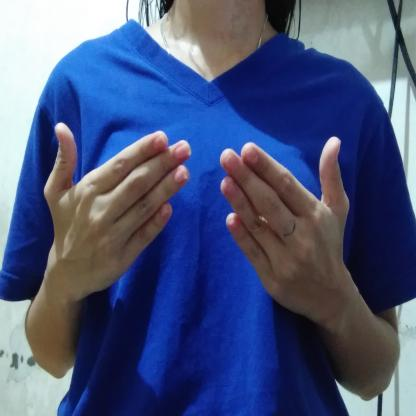night: (40, 116, 354, 333)
